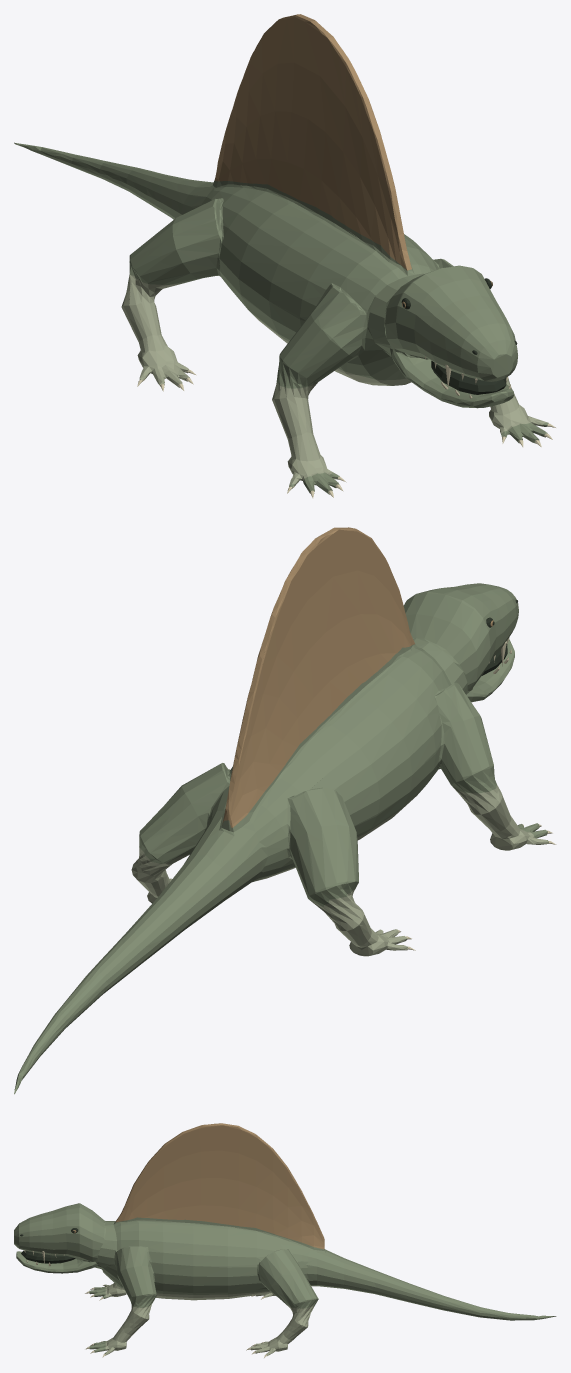
3 views of the same model, one above another, from view 1: azimuth 30°, elevation 25°; view 2: azimuth 150°, elevation 25°; view 3: azimuth 270°, elevation 25° (orthographic). The views are drawn at different scales.
Parts seen in each view (by area): view 1: Dimetrodon continuous anatomy, Dark recessed features, Differentiated teeth and twenty claws; view 2: Dimetrodon continuous anatomy; view 3: Dimetrodon continuous anatomy, Dark recessed features.
Part boxes in pixels (bbox=[...]): Dimetrodon continuous anatomy: bbox=[14, 14, 548, 494]; Dark recessed features: bbox=[401, 278, 517, 394]; Differentiated teeth and twenty claws: bbox=[137, 356, 555, 498]; Dimetrodon continuous anatomy: bbox=[14, 527, 548, 1094]; Dimetrodon continuous anatomy: bbox=[14, 1123, 556, 1355]; Dark recessed features: bbox=[20, 1228, 78, 1263].
Bounding box in the file's own units: 0.5793 × 0.7268 × 1.8.
